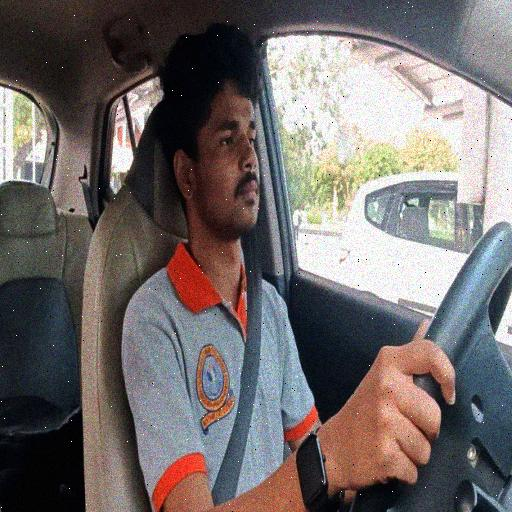sleepy: (163, 19, 266, 372)
